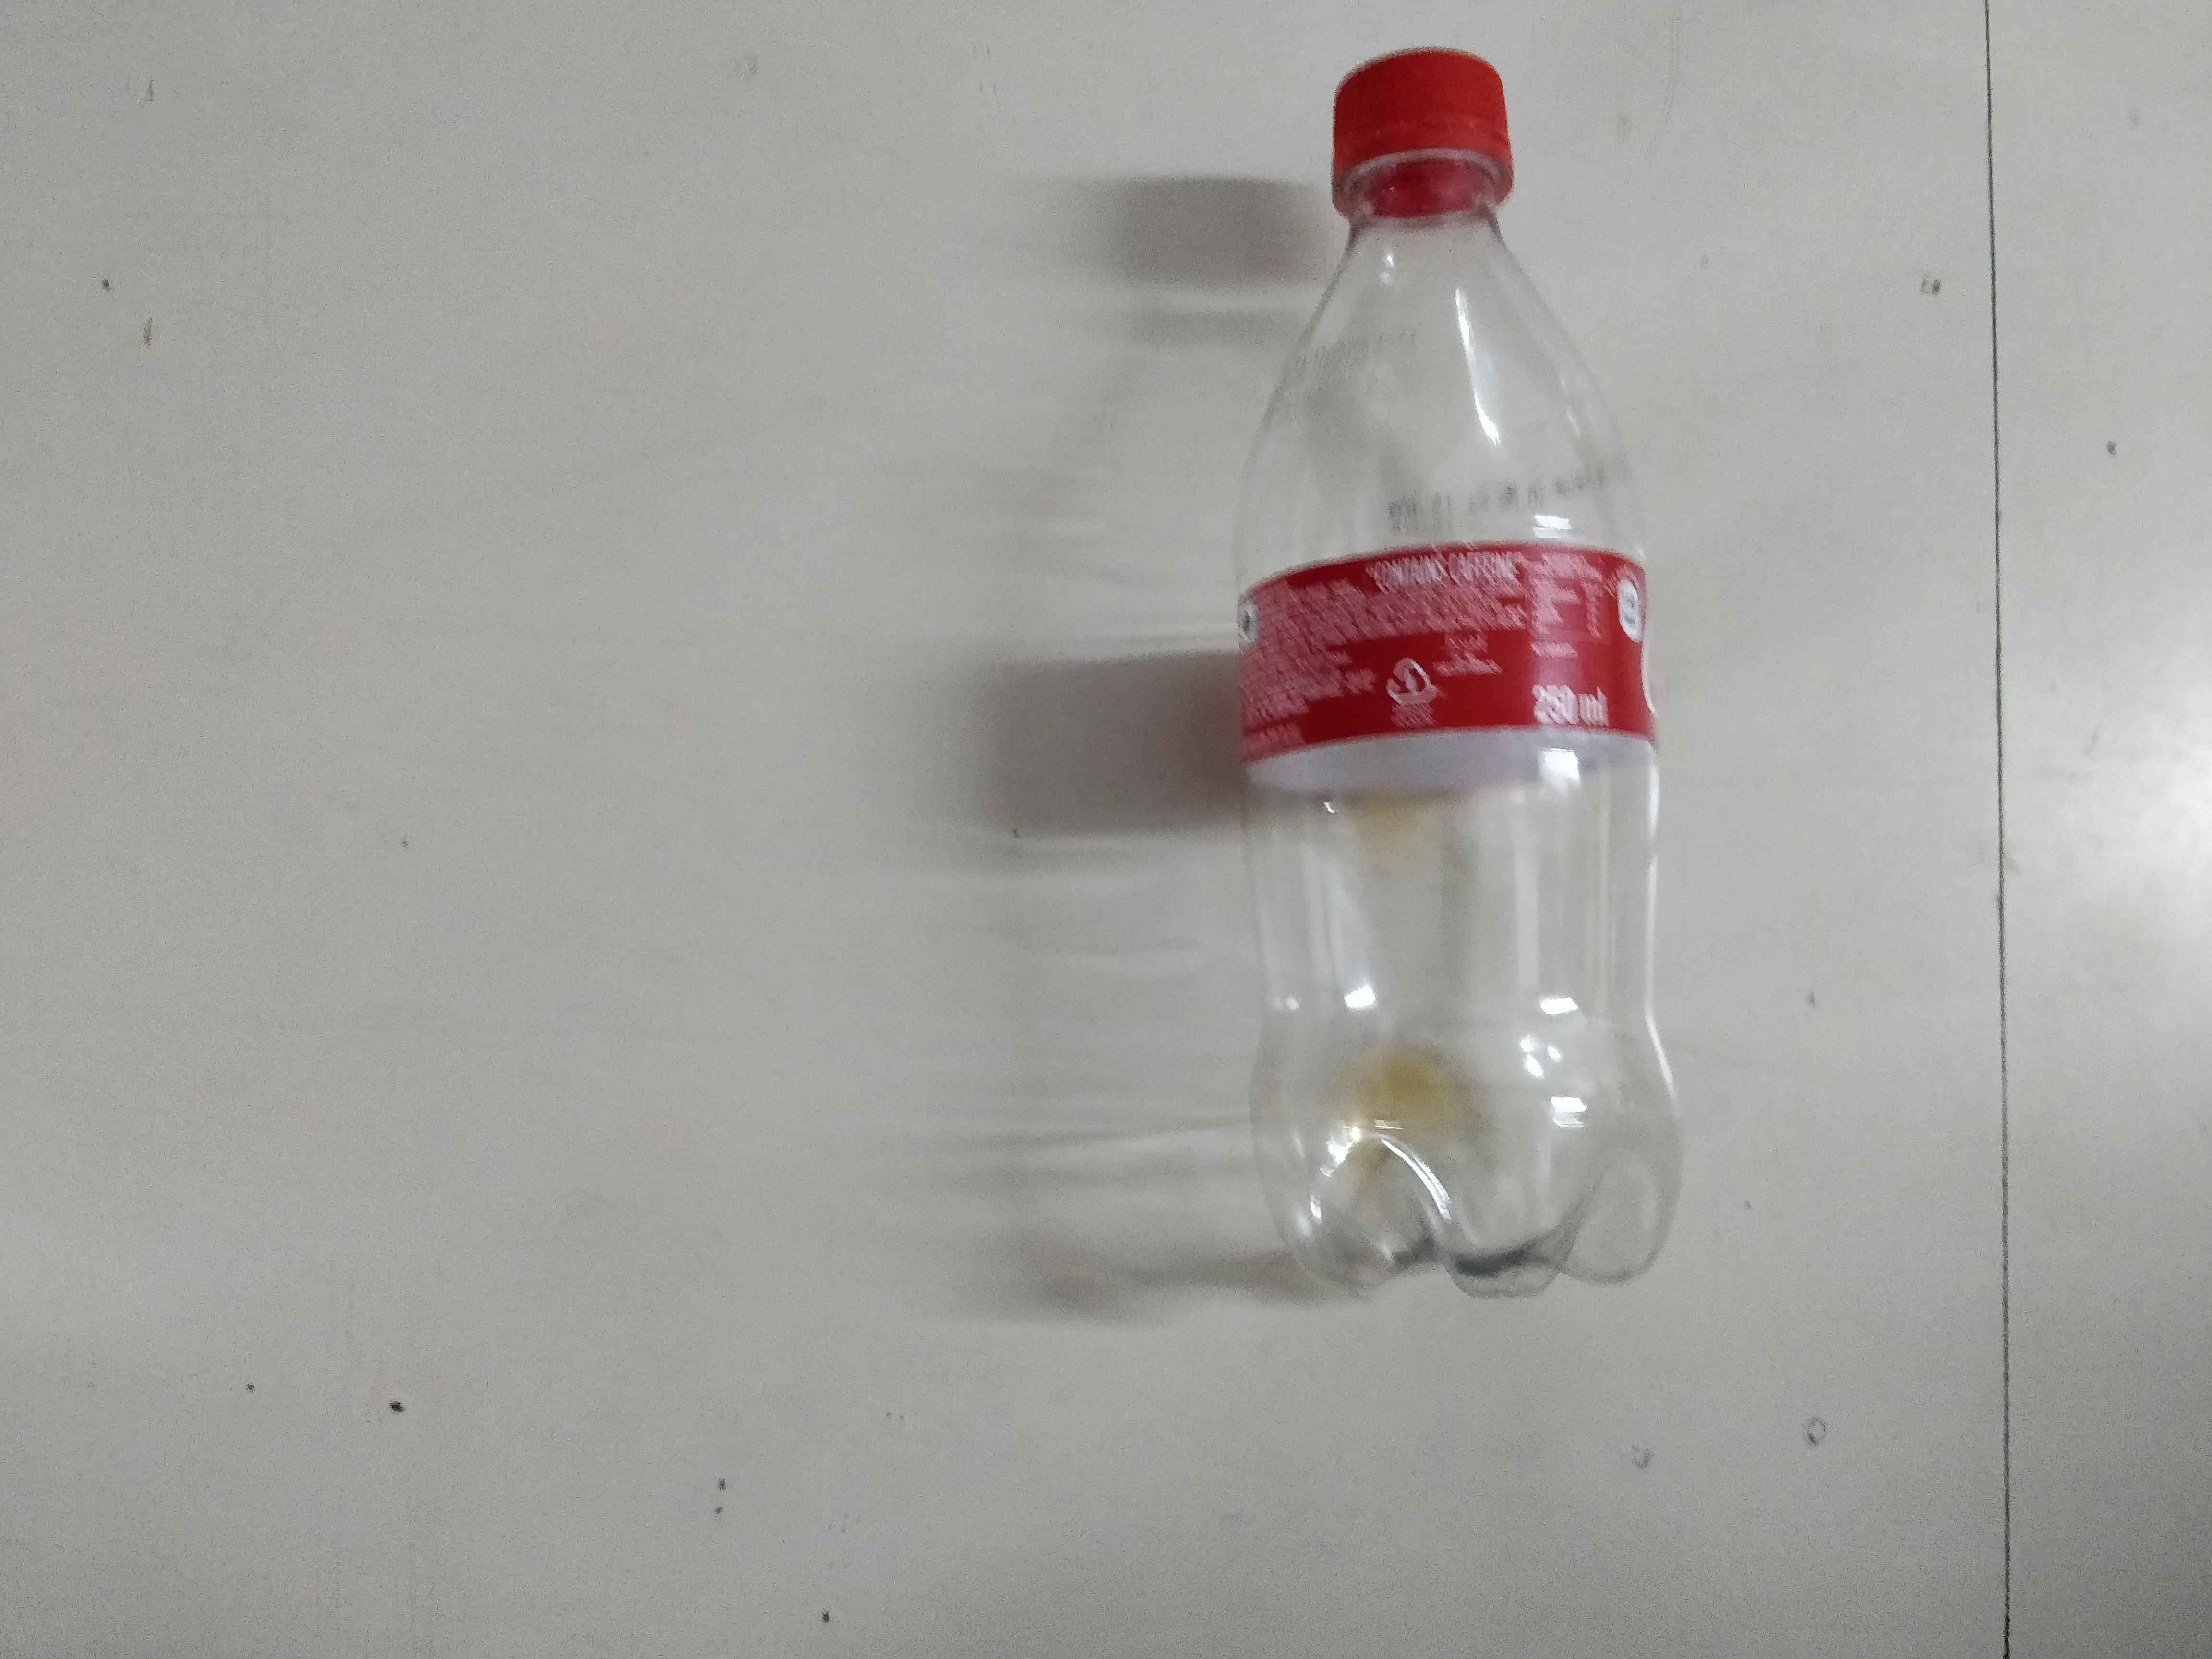Coca-Cola: (1601, 563, 1656, 734)
